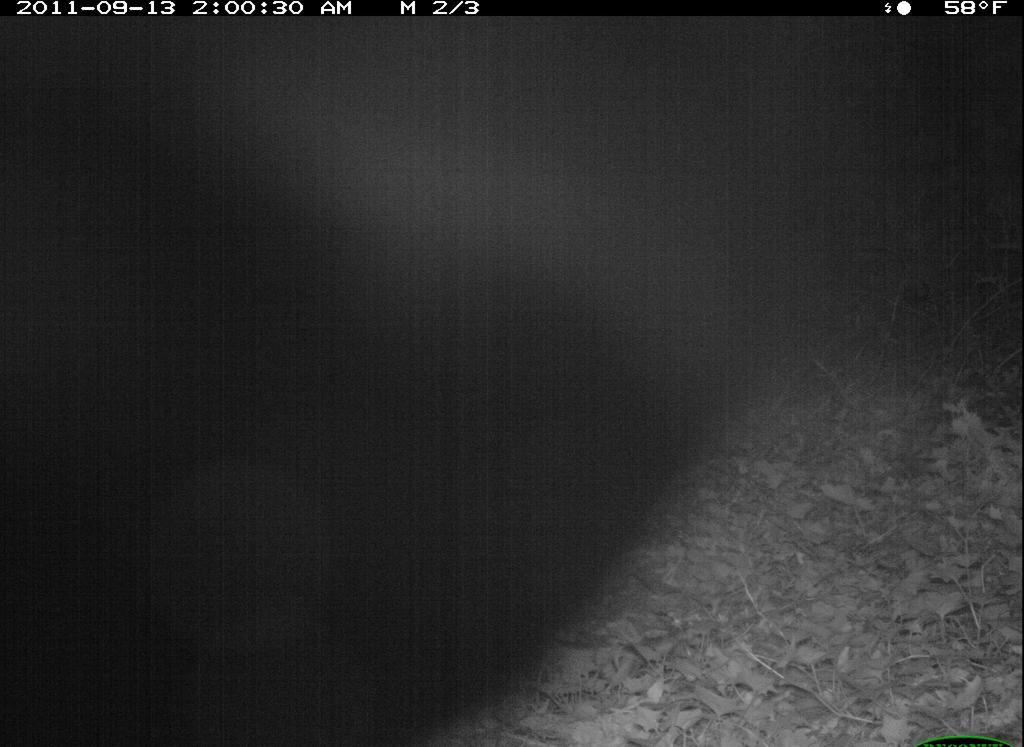coyote: (2, 18, 859, 747)
